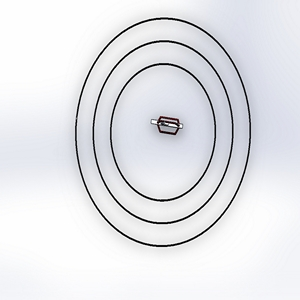circle: (66, 13, 258, 251)
submarine: (146, 109, 188, 145)
